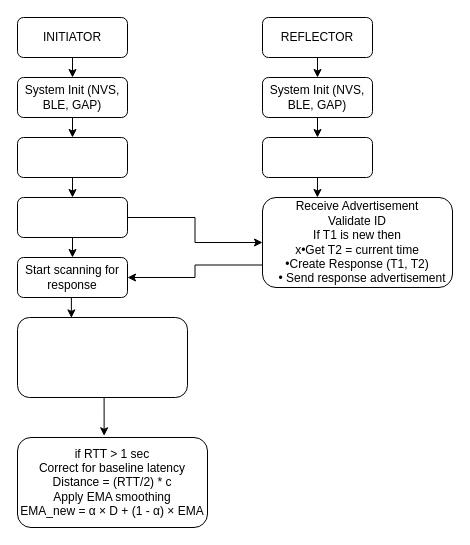
The diagram is 470 pixels wide and 545 high, and some of its shapes have lost their labels. The centre of each missing label's shape, as x and y in pixels:
"Create Adv Payload (T1, ID)" goes at point (72, 217).
"Get T1 = esp_timer_get_time ()" goes at point (72, 157).
"If Received: Get T3 = esp_timer_get_time () RTT = T3-T1" goes at point (102, 357).
"Start scanning for Packets" goes at point (317, 157).
